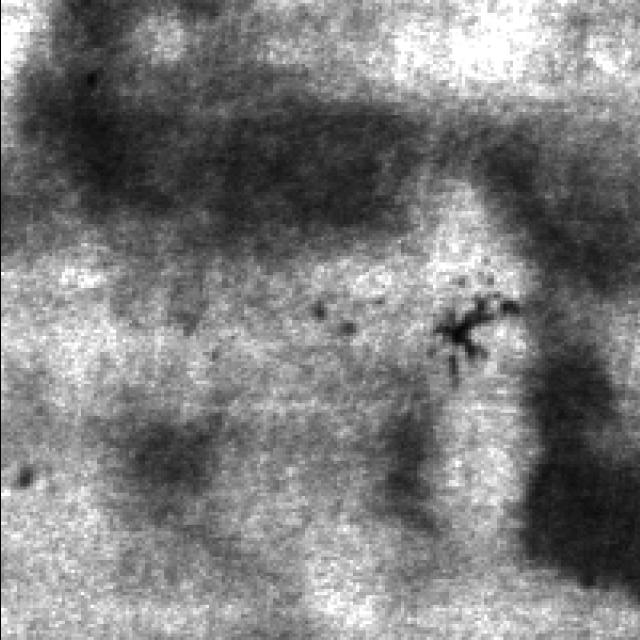patches: (21, 0, 438, 237), (512, 326, 640, 604), (467, 118, 640, 294)
